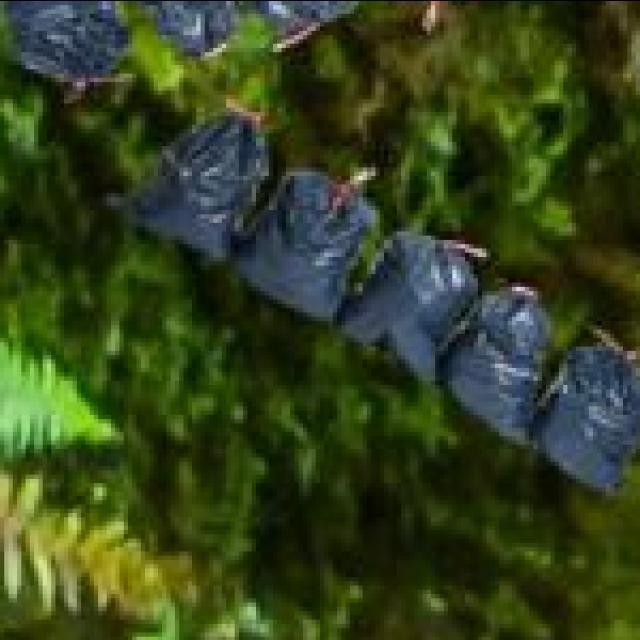Trashbag: (107, 105, 264, 268), (228, 160, 372, 320), (342, 240, 480, 378), (542, 333, 640, 500), (449, 294, 556, 437)
